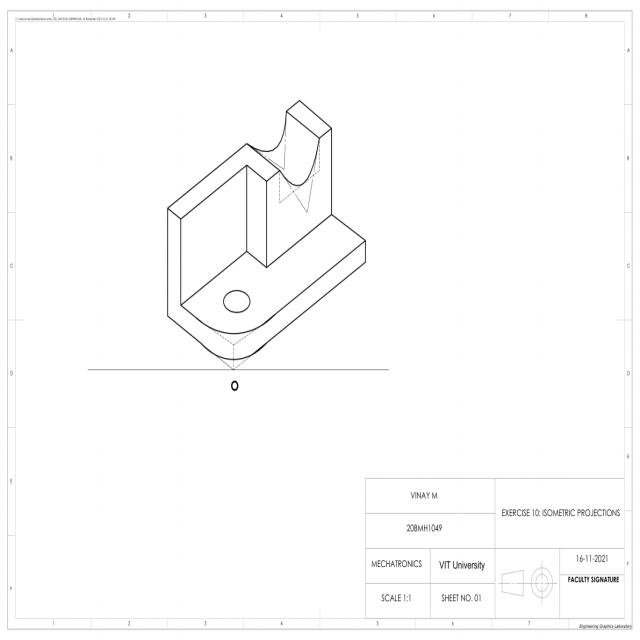Drawings: (152, 87, 371, 380)
